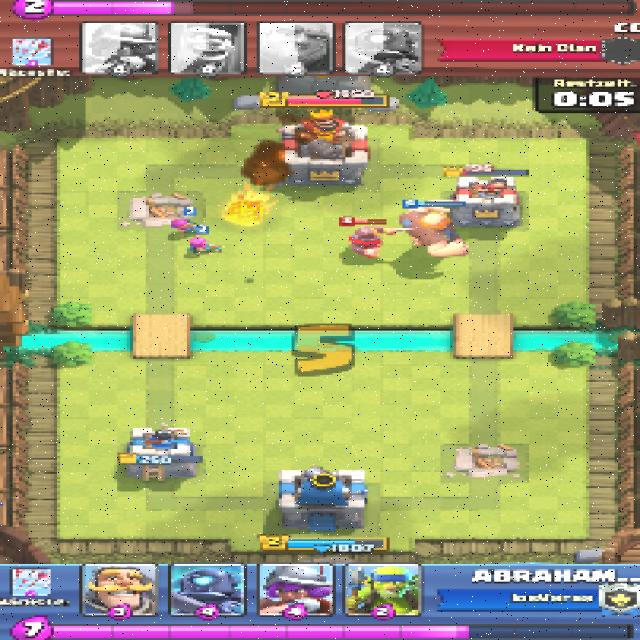Enemy-Fireball: (215, 188, 281, 225)
Enemy-Knight: (341, 223, 398, 259)
Player-Archer: (182, 238, 228, 256), (169, 216, 204, 234)
Player-Giant: (395, 199, 475, 260)
